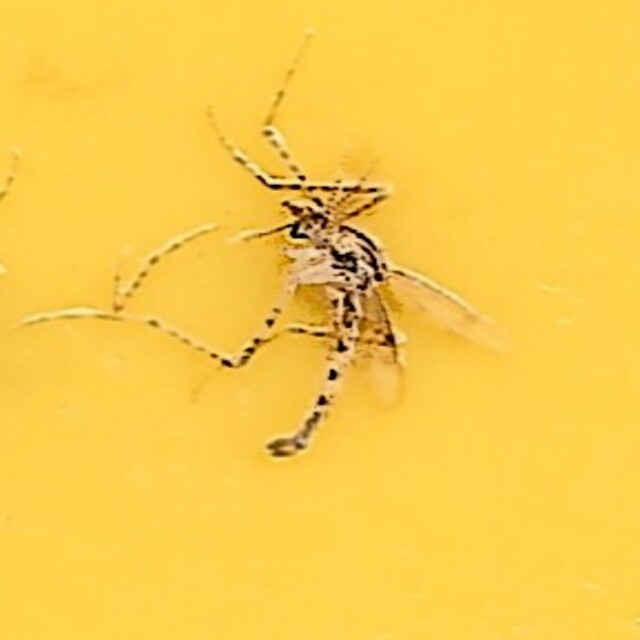Nematocera: (221, 179, 419, 461)
